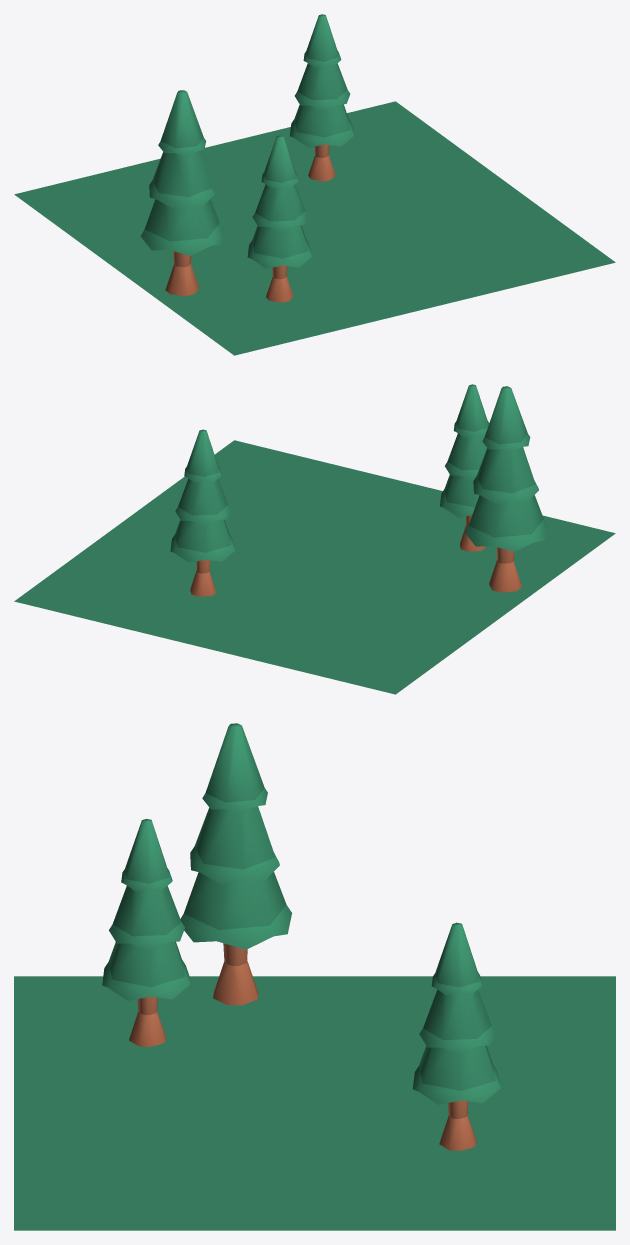
Rendered from decoration-empty.glb.
3 views of the same model, one above another, from view 1: azimuth 30°, elevation 25°; view 2: azimuth 150°, elevation 25°; view 3: azimuth 270°, elevation 25° (orthographic). The views are drawn at different scales.
Parts seen in each view (by area): view 1: decoration-empty; view 2: decoration-empty; view 3: decoration-empty.
Part boxes in pixels (left/top/right/bottom): decoration-empty: left=14, top=14, right=615, bottom=355; decoration-empty: left=14, top=384, right=615, bottom=694; decoration-empty: left=14, top=723, right=615, bottom=1230.
Bounding box in the file's own units: 10.16 × 4.94 × 10.
1 material, 1 textured.
